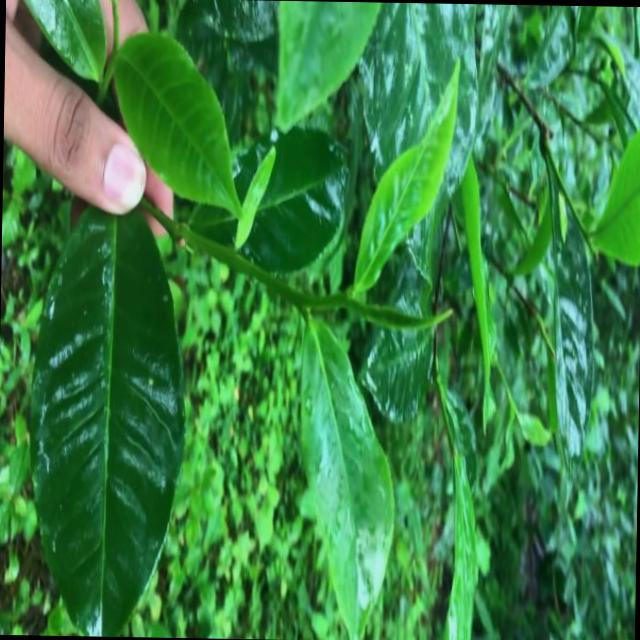Stem: (294, 292, 307, 307)
